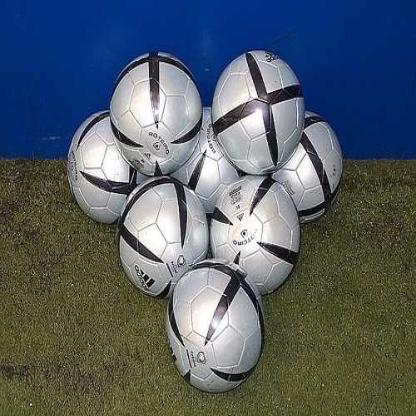ball: (162, 260, 266, 394), (110, 49, 203, 177), (207, 174, 302, 298), (212, 50, 304, 174), (119, 175, 210, 299), (68, 109, 140, 228), (271, 108, 345, 222)
